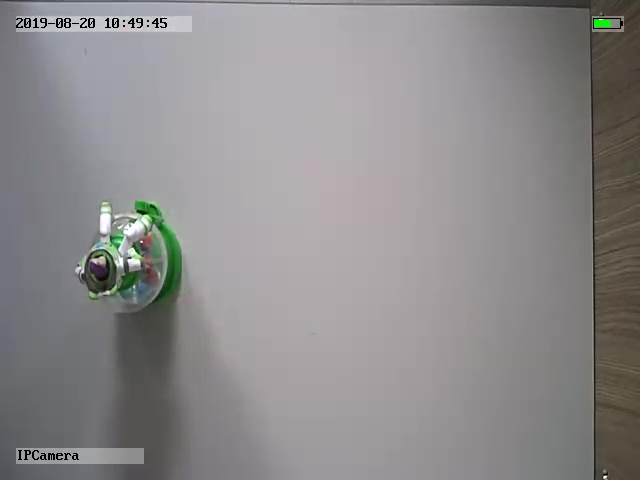buzz: (71, 200, 185, 317)
